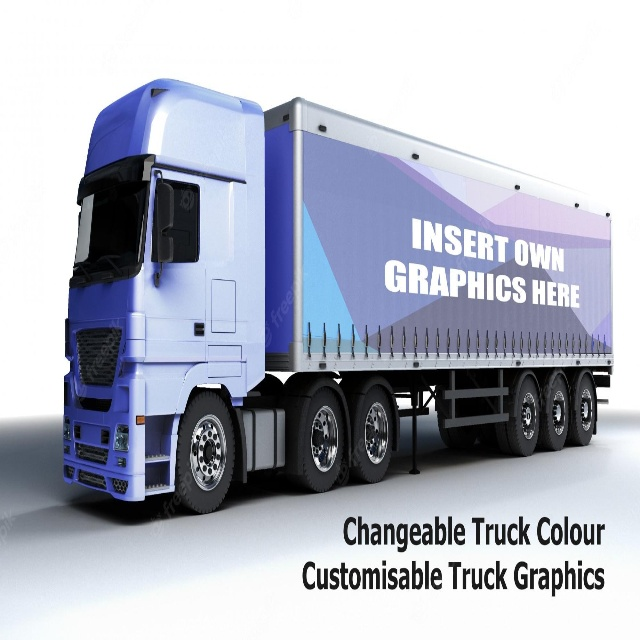Truck: (62, 77, 613, 516)
